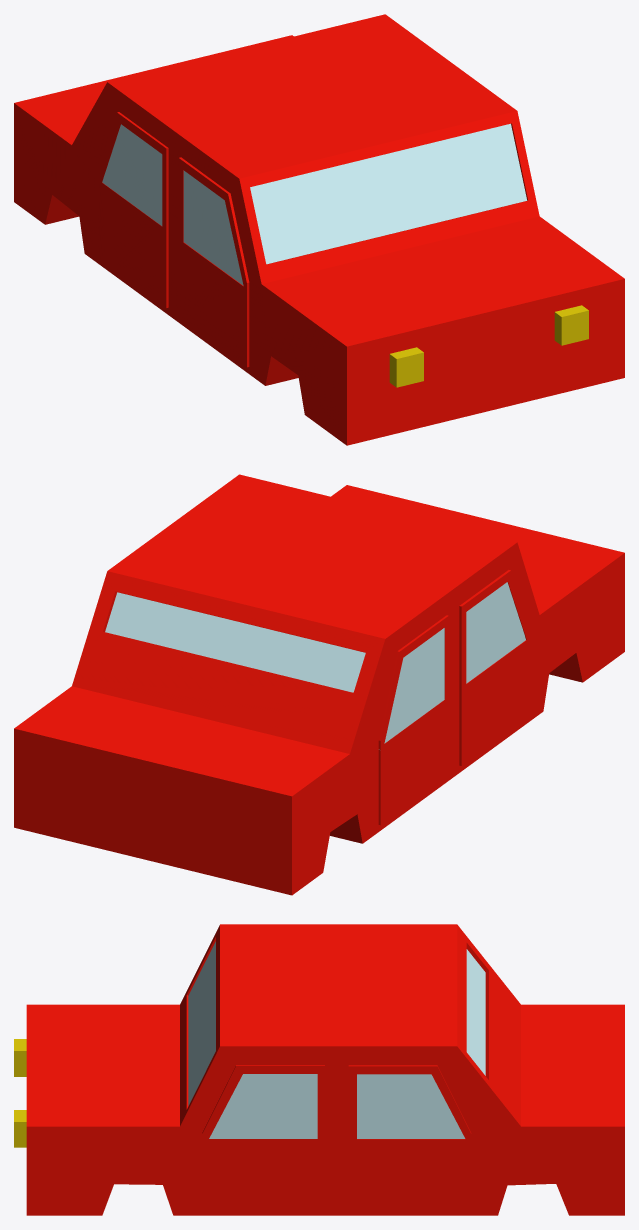
File: Coche  Rojo.fbx
3 views of the same model, one above another, from view 1: azimuth 30°, elevation 25°; view 2: azimuth 150°, elevation 25°; view 3: azimuth 270°, elevation 25° (orthographic). The views are drawn at different scales.
Visible parts, largest first — view 1: Cube, Cube.010, Cube.004, Cube.005, Cube.009, Cube.008, Cube.002; view 2: Cube, Cube.011, Cube.004, Cube.005, Cube.009, Cube.008; view 3: Cube, Cube.001, Cube.003, Cube.006, Cube.007, Cube.010, Cube.011, Cube.002.
Boxes of the visible parts, x1,y1,x2,y2 form: Cube: (14,14,624,445); Cube.010: (250,123,527,264); Cube.004: (178,157,249,367); Cube.005: (98,112,168,307); Cube.009: (102,124,162,225); Cube.008: (183,170,243,285); Cube.002: (389,305,588,387); Cube: (14,474,624,895); Cube.011: (105,592,365,692); Cube.004: (459,570,529,765); Cube.005: (378,615,448,825); Cube.009: (379,628,444,749); Cube.008: (466,582,525,683); Cube: (26,924,624,1215); Cube.001: (348,1065,471,1209); Cube.003: (202,1065,324,1209); Cube.006: (209,1074,317,1138); Cube.007: (357,1074,465,1138); Cube.010: (188,941,215,1105); Cube.011: (466,949,485,1075); Cube.002: (14,1039,26,1147).
Bounding box in the file's own units: 172 × 109 × 358.
